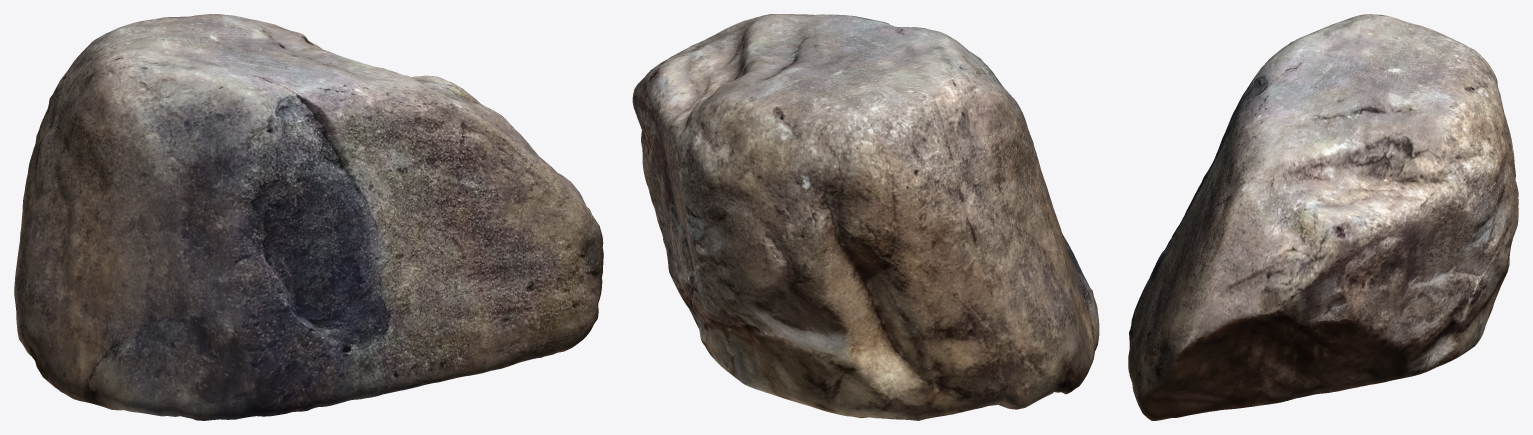
File: rock.glb
The picture shows the model from 3 angles, left to right: view 1: azimuth 30°, elevation 25°; view 2: azimuth 150°, elevation 25°; view 3: azimuth 270°, elevation 25°; orthographic projection. The views are drawn at different scales.
Visible parts, largest first — view 1: LoRes_Retopo_01 - Default_0; view 2: LoRes_Retopo_01 - Default_0; view 3: LoRes_Retopo_01 - Default_0.
Boxes of the visible parts, x1,y1,x2,y2 form: LoRes_Retopo_01 - Default_0: (14,14,603,420); LoRes_Retopo_01 - Default_0: (632,14,1099,420); LoRes_Retopo_01 - Default_0: (1128,14,1518,420).
Size of the model in its own units: 1.07 by 0.6586 by 0.8208.
Materials: 1 (1 with a texture image).
